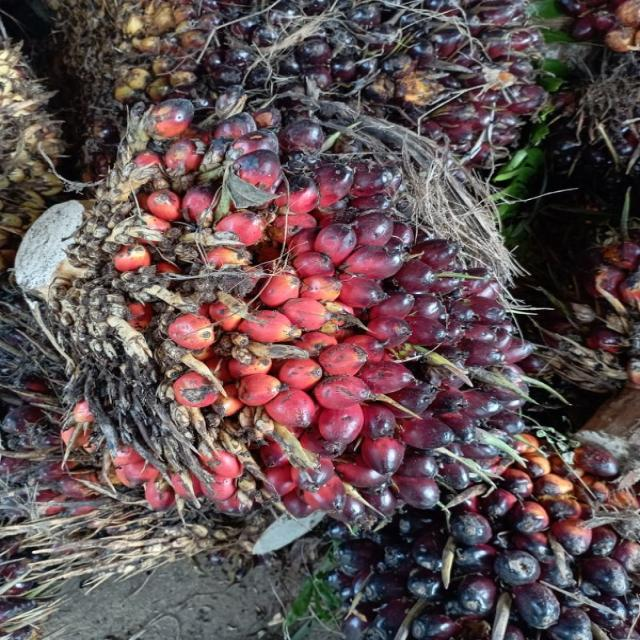fraksi 1: (53, 68, 546, 570)
